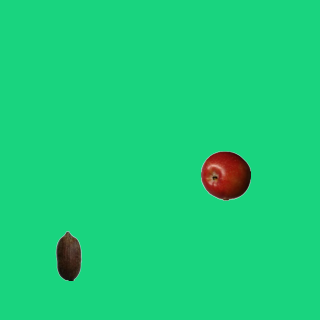Apple Braeburn: (200, 150, 250, 200)
Nut Pecan: (43, 230, 93, 280)
